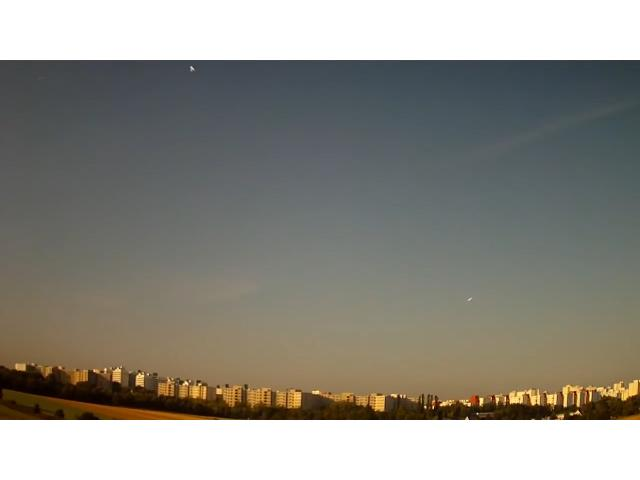Anti-Drone: (464, 290, 480, 305)
